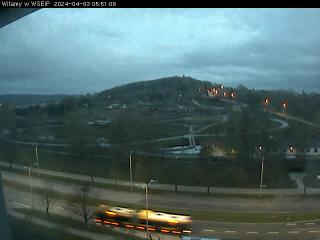bus: (93, 204, 192, 236)
